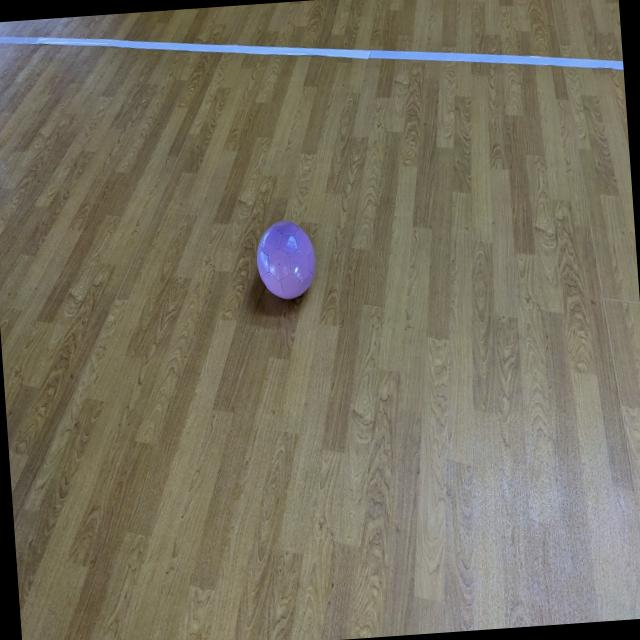purple_ball: (253, 218, 318, 300)
